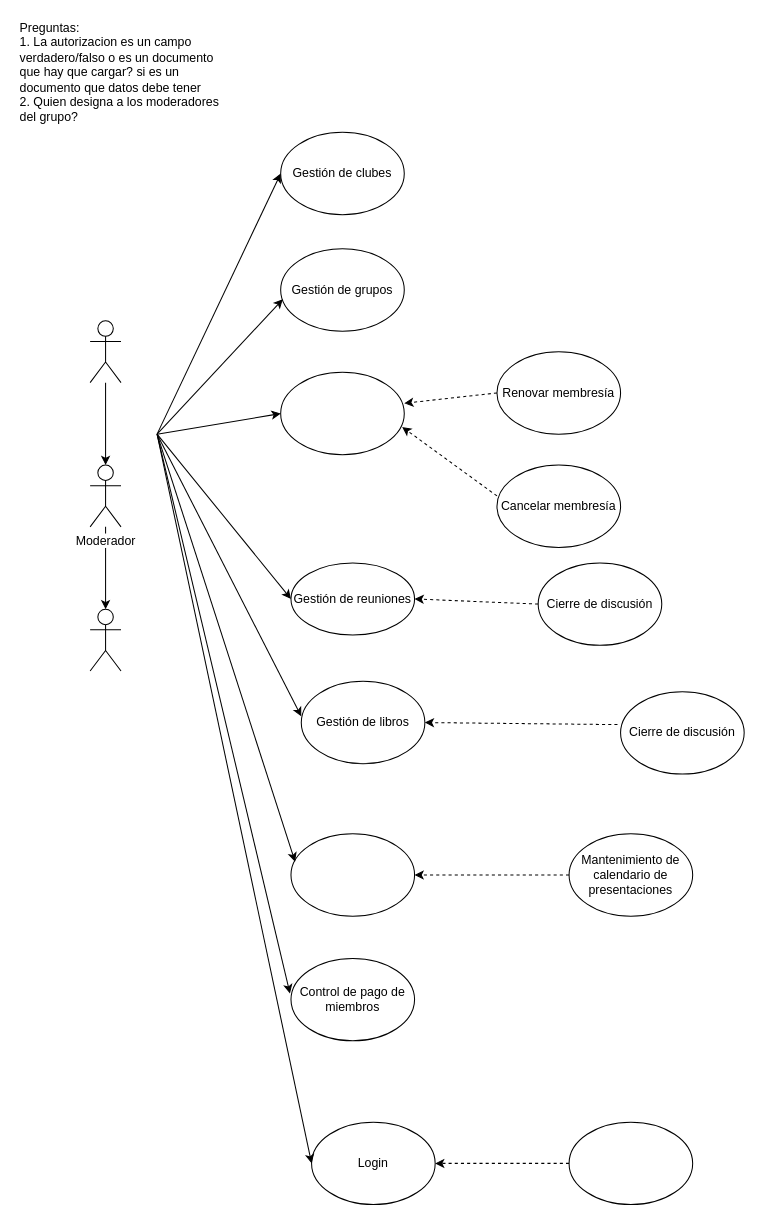
The diagram is 762 pixels wide and 1223 high, and some of its shapes have lost their labels. Each missing label, with the box of its shape:
Administrador: (89, 608, 121, 671)
Gestión de membresía: (280, 371, 404, 455)
Gestión de obras actuadas: (290, 833, 415, 916)
Registro: (568, 1121, 693, 1205)
Usuario: (89, 320, 121, 383)
